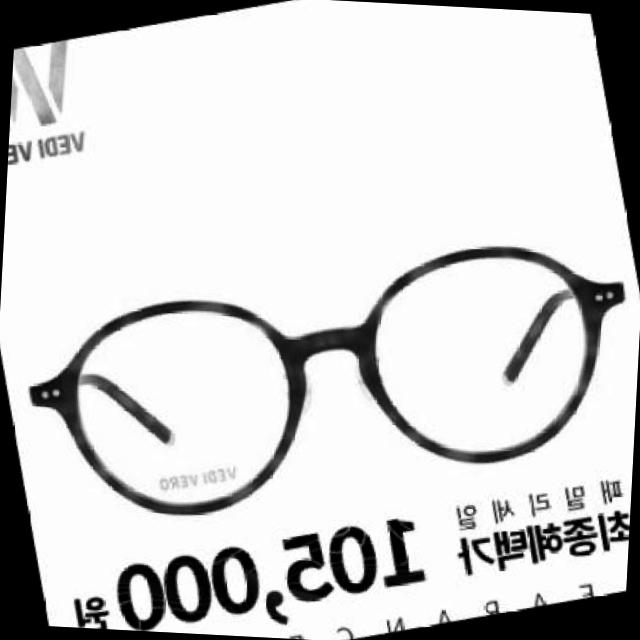glasses: (3, 189, 640, 572)
